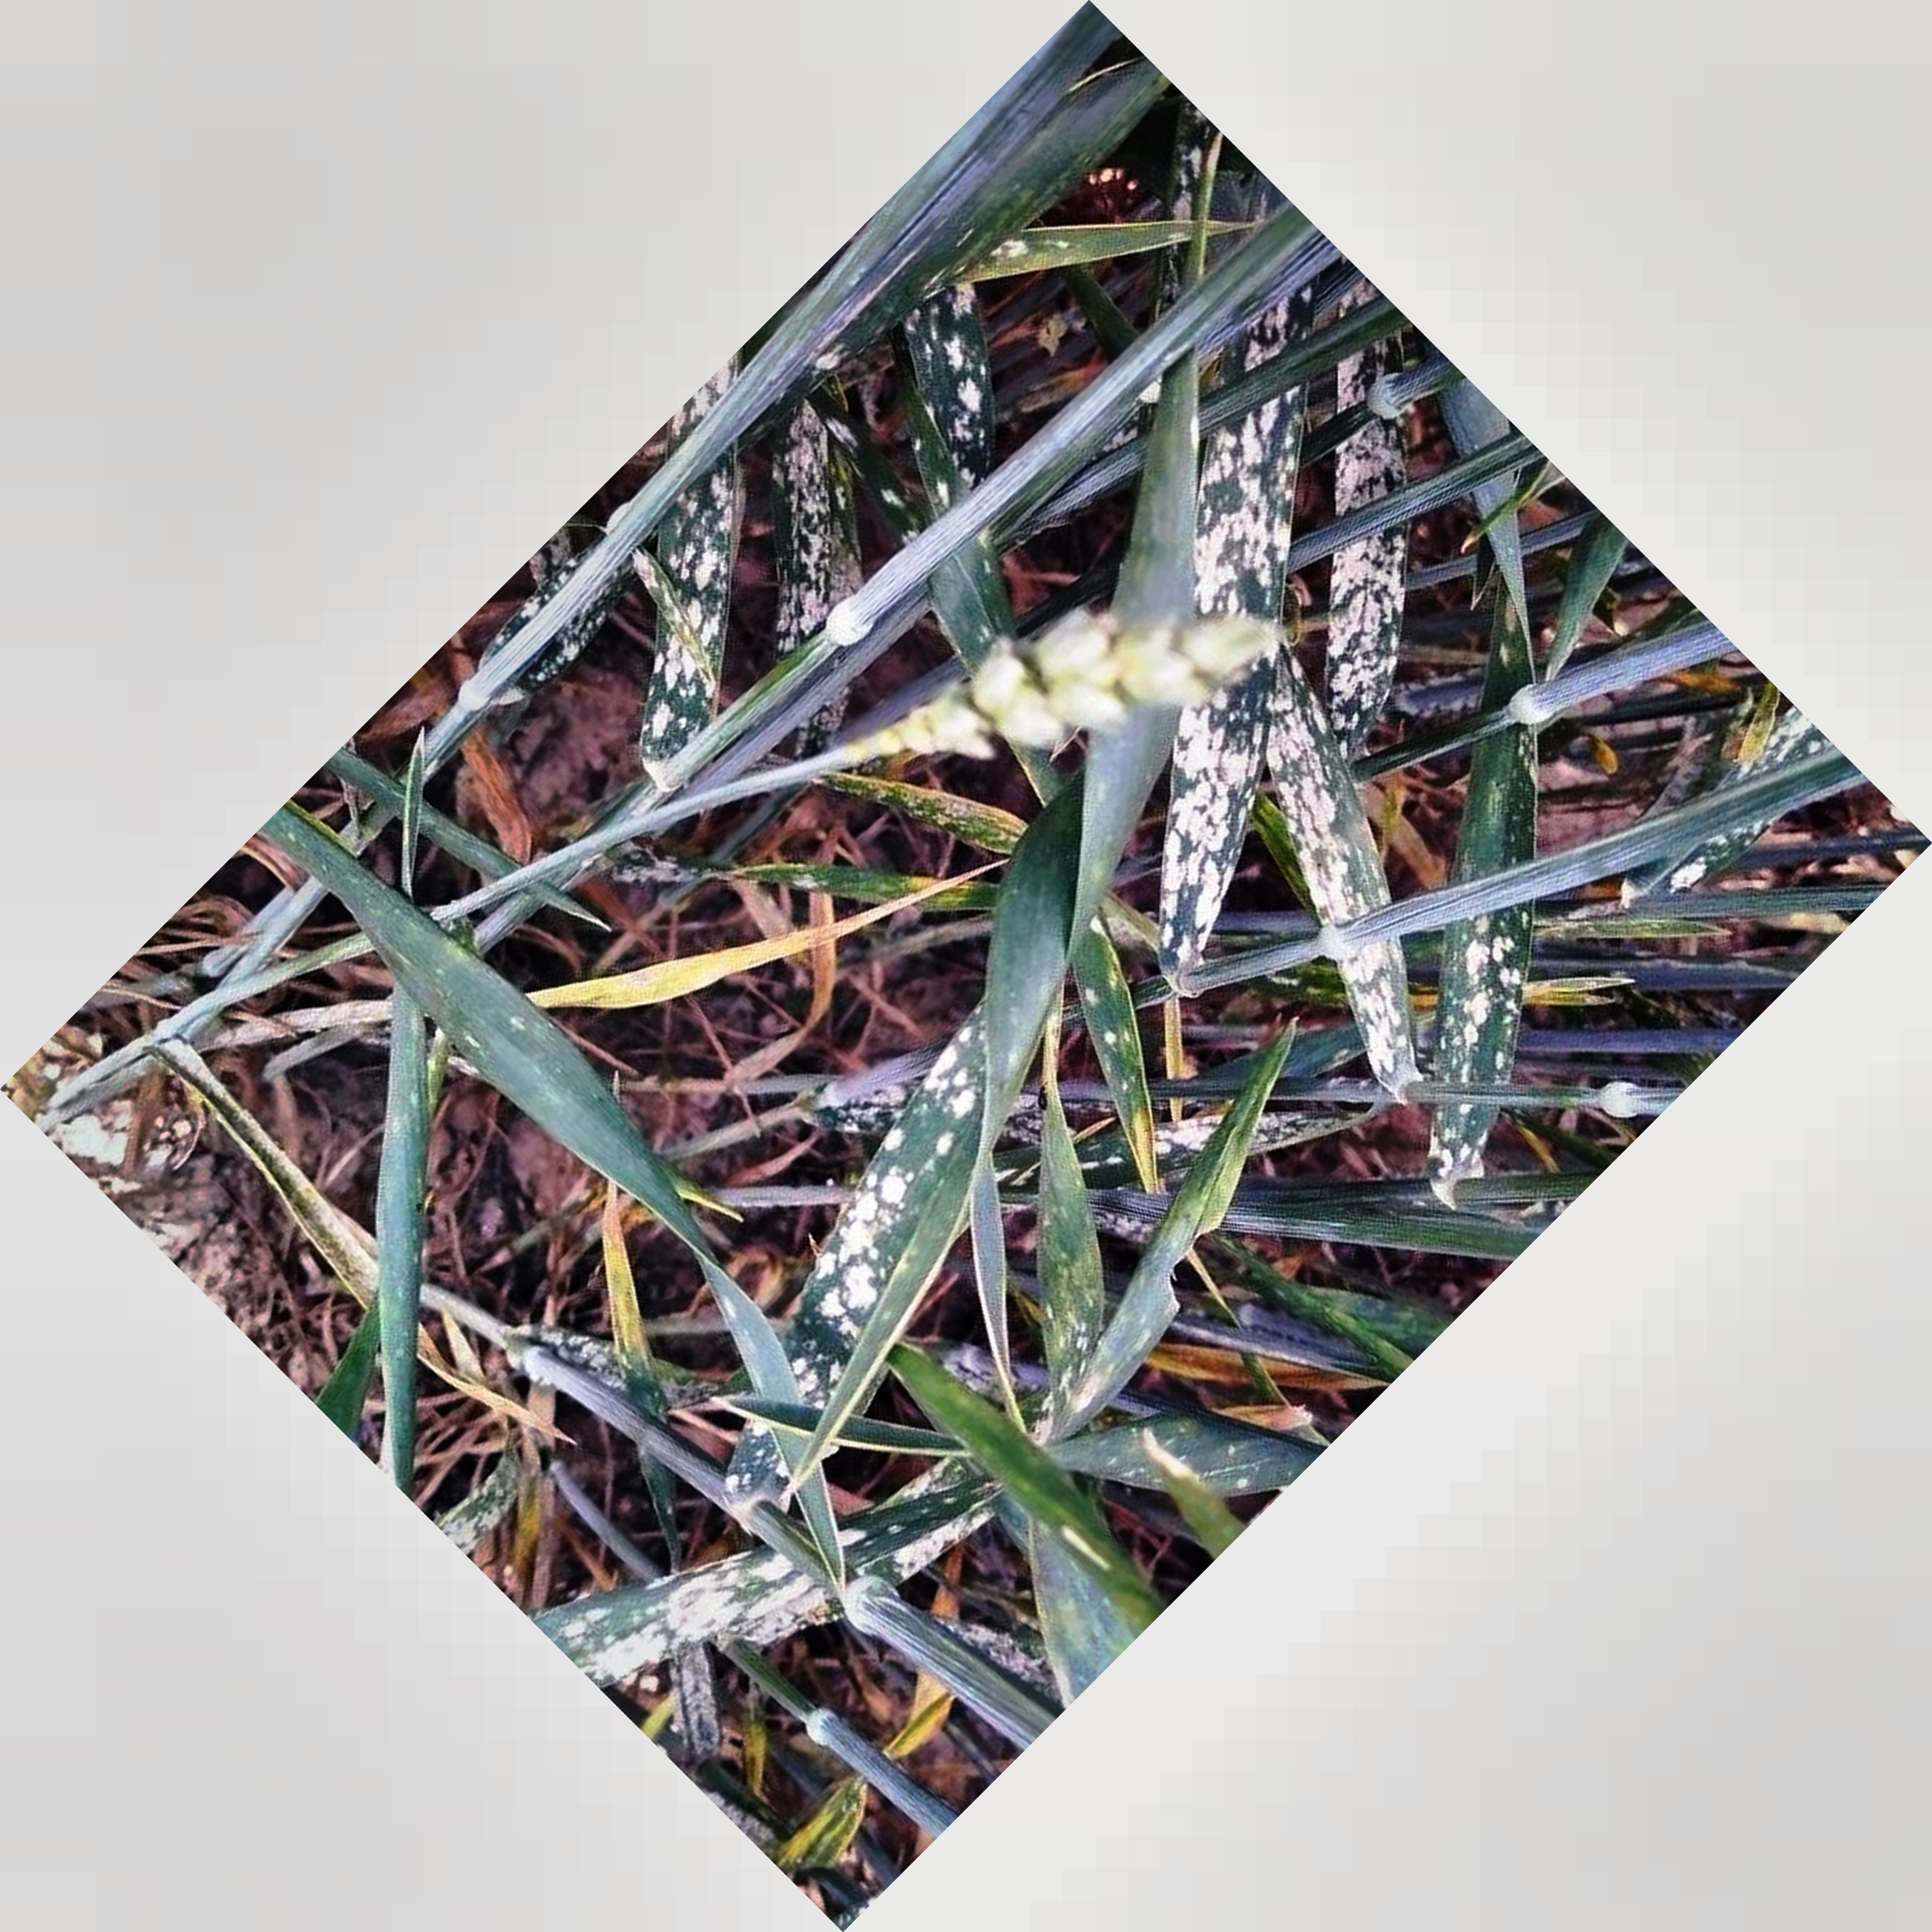Powdery Mildew: (1169, 357, 1442, 1024), (603, 400, 879, 757), (784, 1067, 993, 1421)
